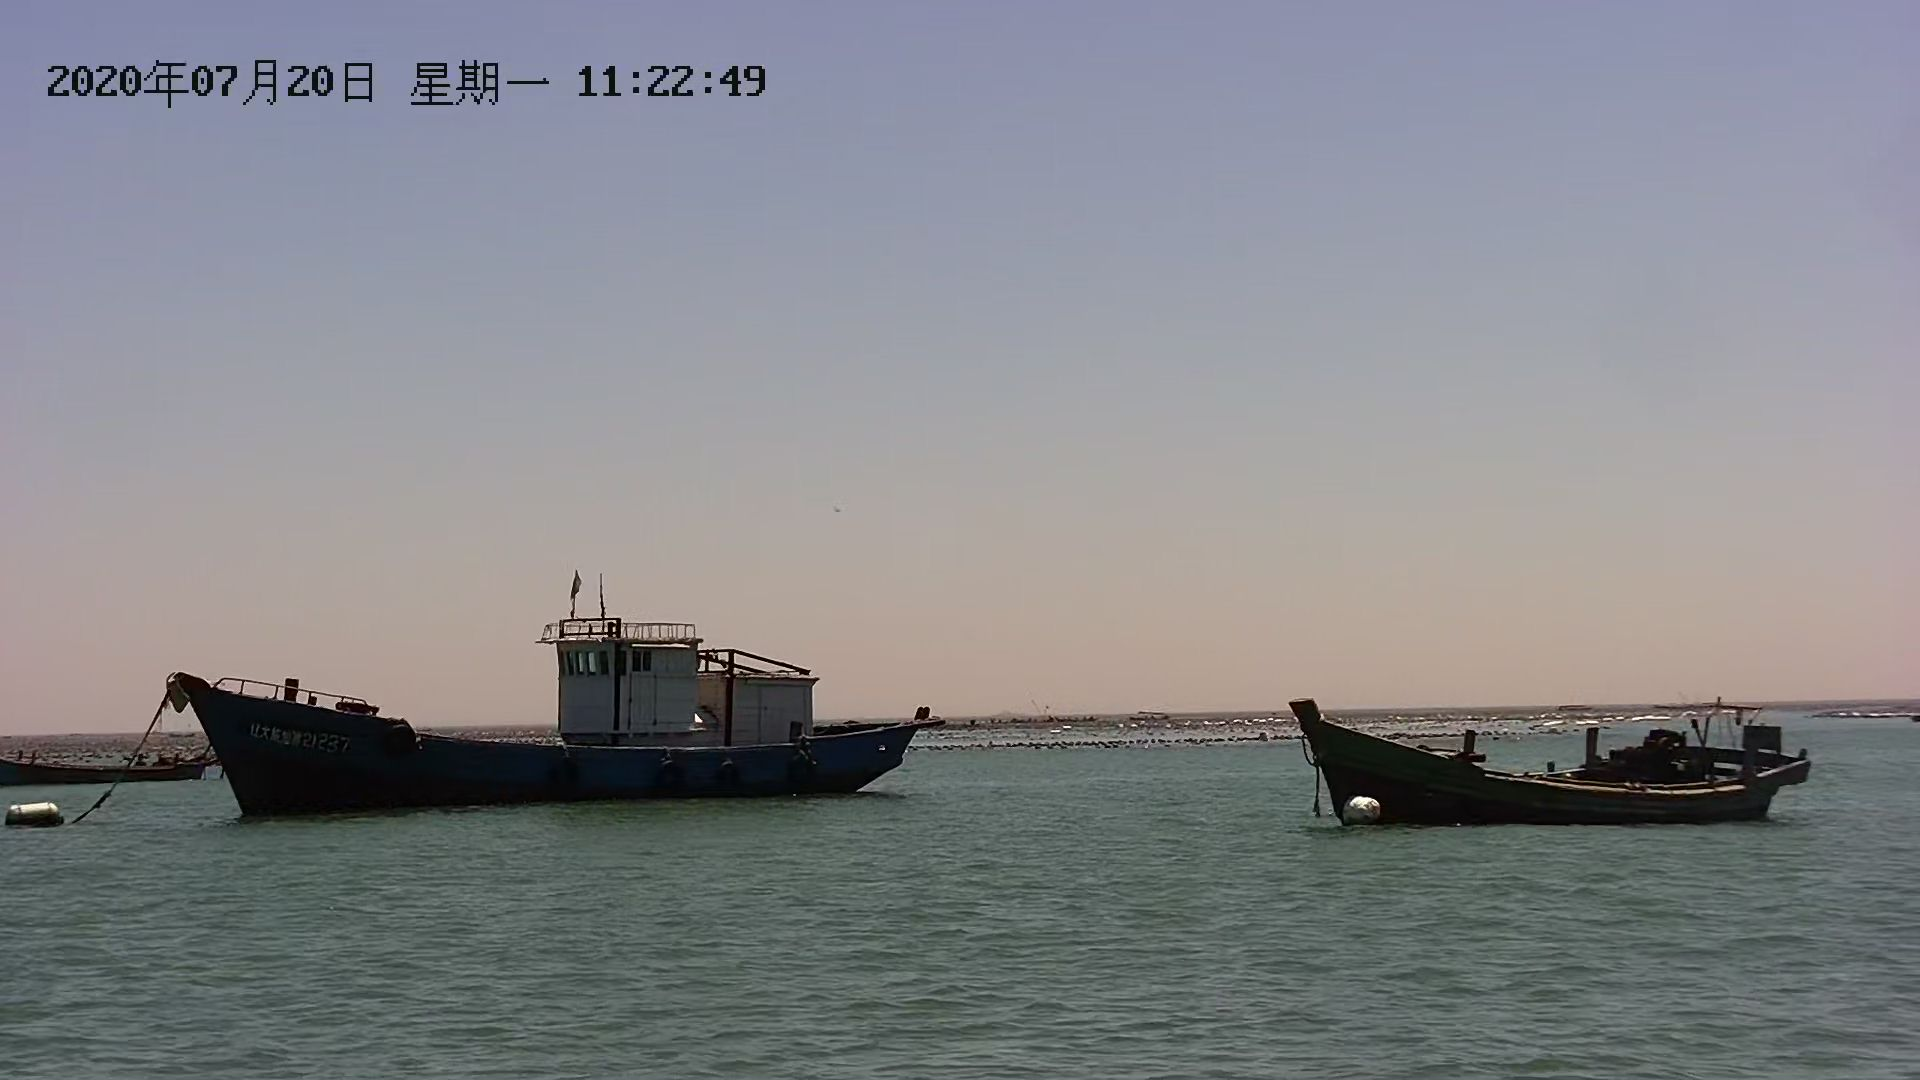ball: (5, 791, 80, 831)
boat: (167, 608, 940, 814), (1295, 673, 1821, 845)
